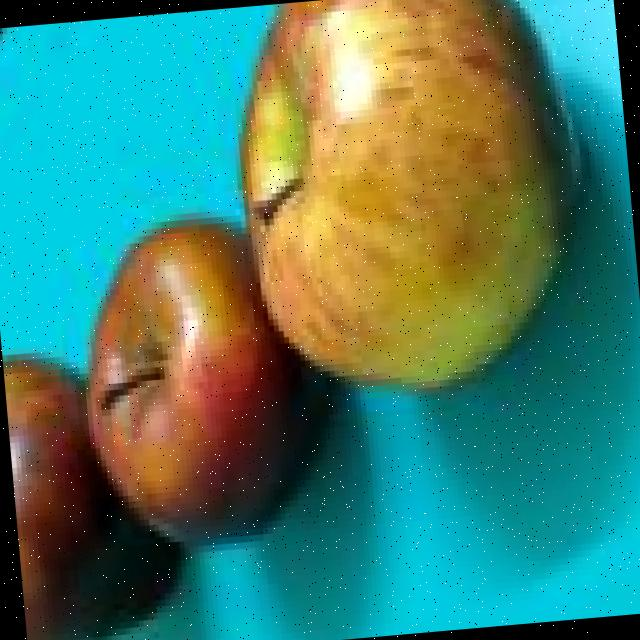Bad_Apple 0-1 day: (3, 0, 575, 640)
